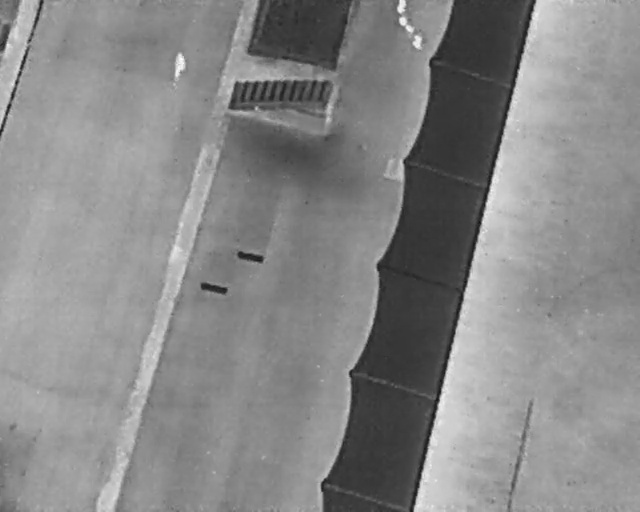Person: (173, 51, 188, 81)
